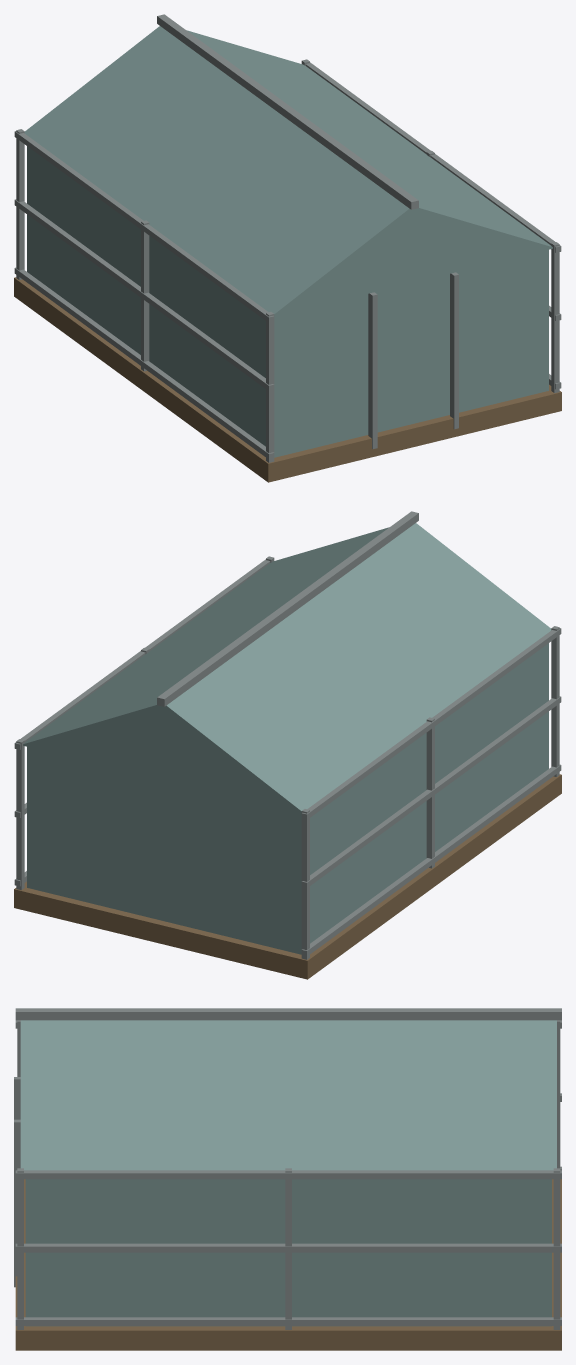
Rendered from Scenery_Greenhouse.fbx.
3 views of the same model, one above another, from view 1: azimuth 30°, elevation 25°; view 2: azimuth 150°, elevation 25°; view 3: azimuth 270°, elevation 25° (orthographic). The views are drawn at different scales.
Visible parts, largest first — view 1: Scenery_Greenhouse_LOD0; view 2: Scenery_Greenhouse_LOD0; view 3: Scenery_Greenhouse_LOD0.
Part boxes in pixels (left/top/right/bottom): Scenery_Greenhouse_LOD0: left=14, top=14, right=561, bottom=482; Scenery_Greenhouse_LOD0: left=14, top=511, right=561, bottom=979; Scenery_Greenhouse_LOD0: left=14, top=1008, right=561, bottom=1350.
Size of what is drawn, in the model's own units: 3.6 by 2.88 by 5.42.
